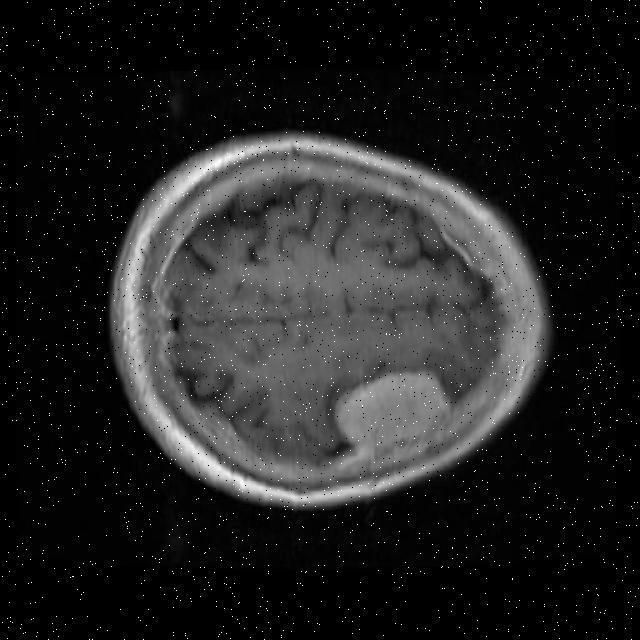Meningioma: (336, 373, 449, 449)
